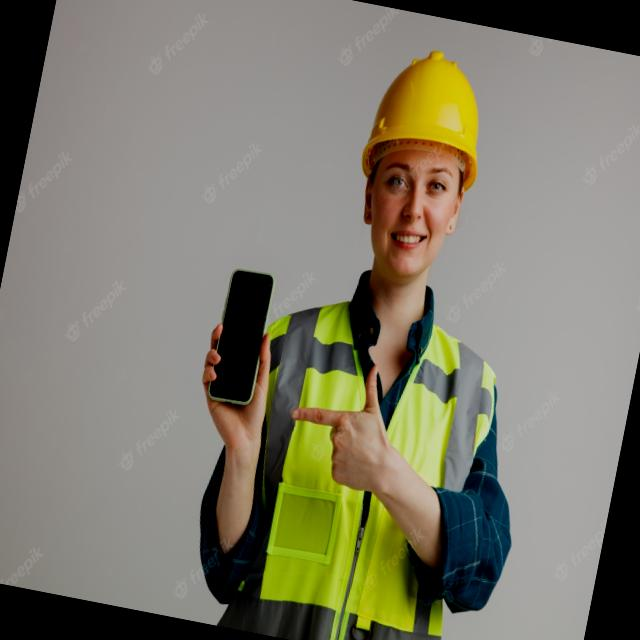helmet: (349, 32, 502, 196)
vest: (212, 284, 519, 640), (372, 152, 466, 211)
